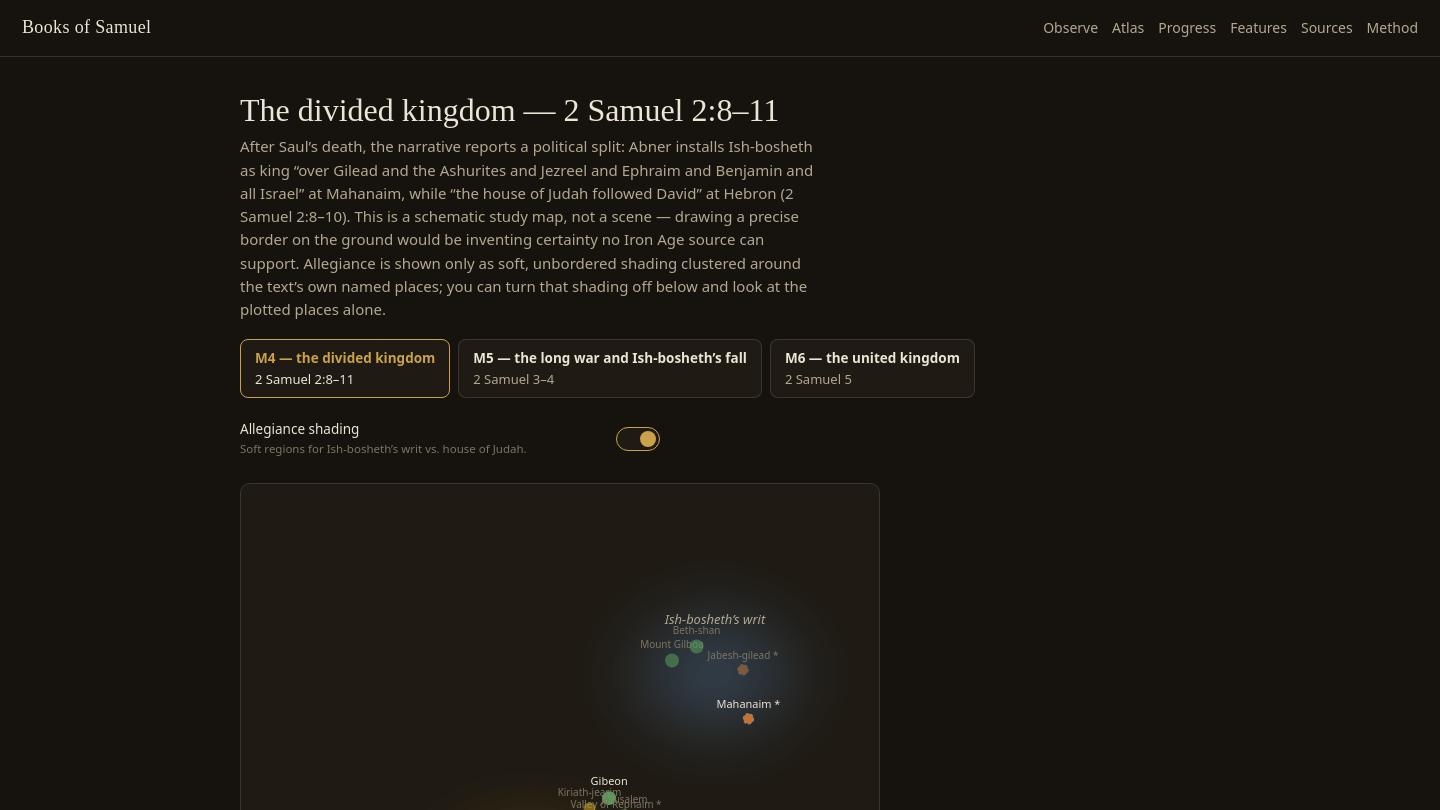
AtlasPage M5 phase (2 Samuel 3–4 long war + northern collapse) › switches into the M5 phase and shows the long-war trend section
The width and height of the screenshot is (1440, 810).
What coordinates should you click on to do the following:
click the tab with test id "atlas-phase-m5"
I would click on:
 (610, 369)
Its box is x1=458 y1=339 x2=762 y2=398.
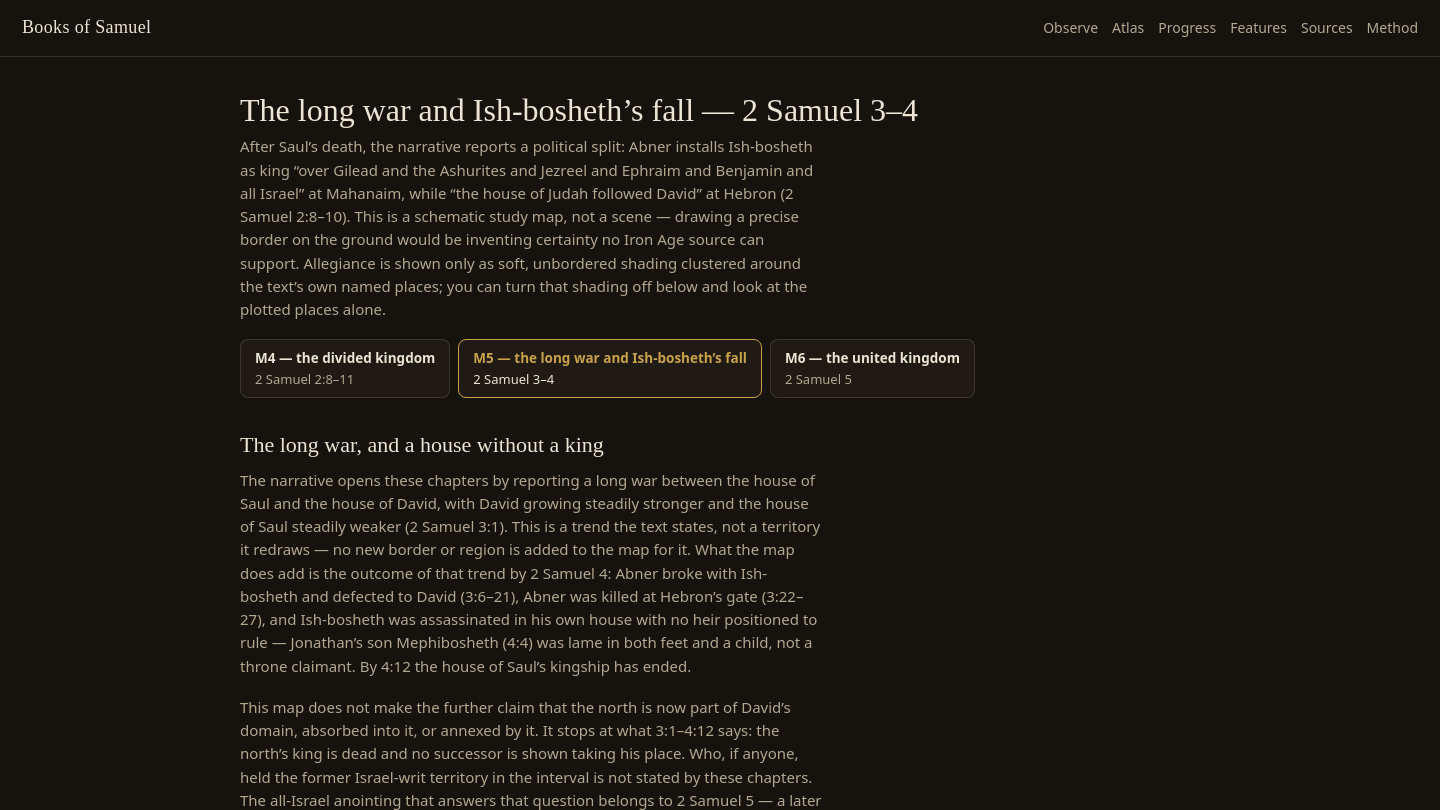
Check: the heading "The long war, and a house without a king" is shown, box x1=240 y1=432 x2=604 y2=457
Check: the text "steadily stronger" is shown, box x1=240 y1=470 x2=820 y2=676
